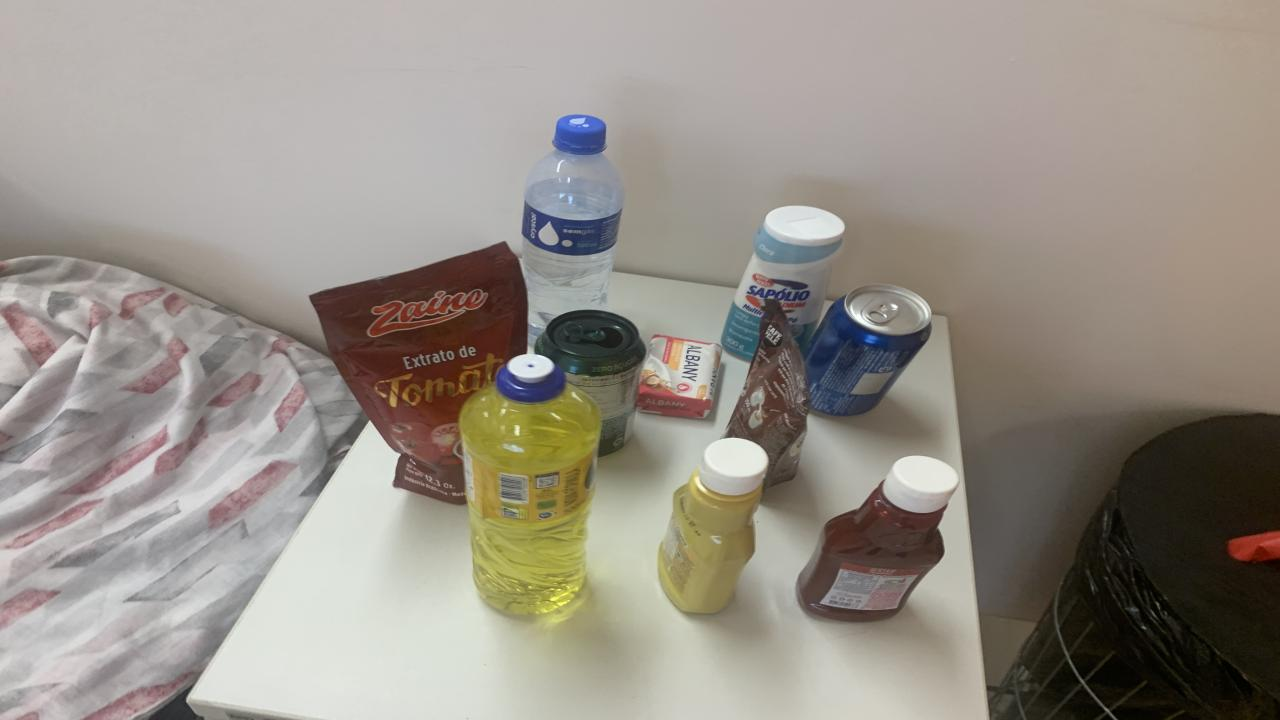Cleaner-Cleanup_Items: (722, 206, 845, 360)
Coffee-Pantry_Items: (725, 298, 810, 488)
Detergent-Cleanup_Items: (460, 354, 600, 613)
Guarana_Can-Drinks: (535, 309, 645, 456)
Ketchup-Pantry_Items: (798, 456, 960, 622)
Mustard-Pantry_Items: (658, 437, 770, 613)
Soap-Cleanup_Items: (638, 336, 722, 418)
Tomato_Sauce-Pantry_Items: (310, 242, 528, 502)
Tonic-Drinks: (805, 285, 932, 416)
Water_Bottle-Drinks: (522, 114, 625, 347)
